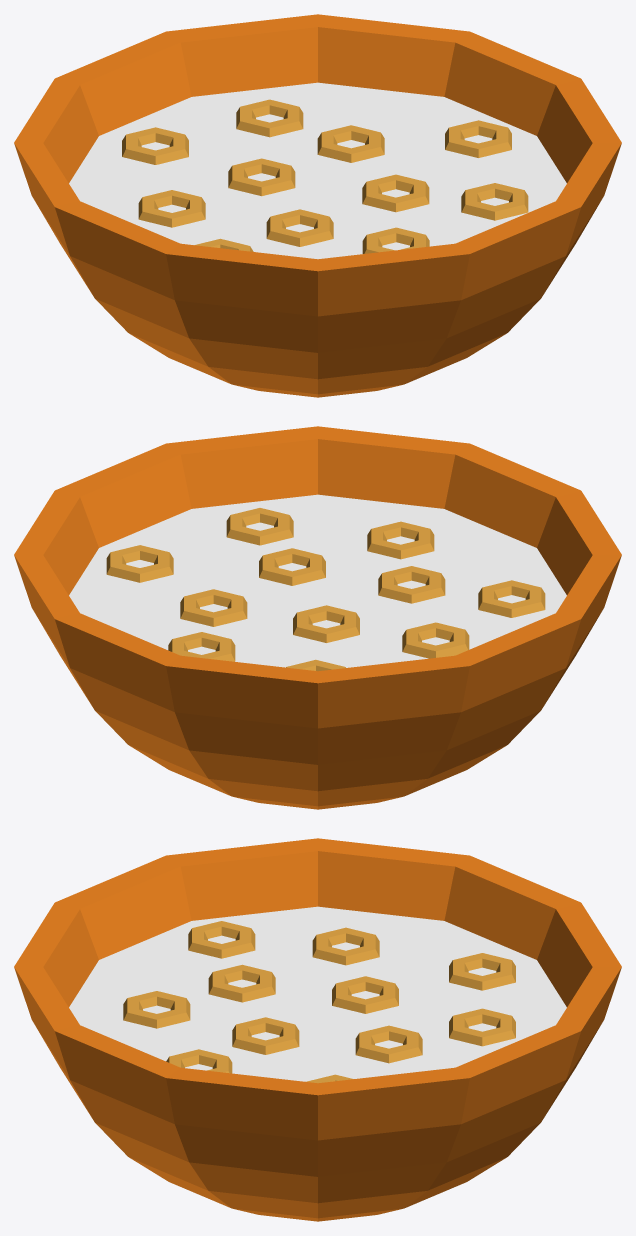
Rendered from Soap_Plate_01.fbx.
3 renders of one model, top to bottom at view 1: azimuth 30°, elevation 25°; view 2: azimuth 150°, elevation 25°; view 3: azimuth 270°, elevation 25°, orthographic.
Visible parts, largest first — view 1: Soap_Plate_01_LOD0; view 2: Soap_Plate_01_LOD0; view 3: Soap_Plate_01_LOD0.
Boxes of the visible parts, x1,y1,x2,y2 form: Soap_Plate_01_LOD0: (14,14,621,397); Soap_Plate_01_LOD0: (14,426,621,809); Soap_Plate_01_LOD0: (14,838,621,1221).
Size of what is drawn, in the model's own units: 0.2799 by 0.1149 by 0.2799.
